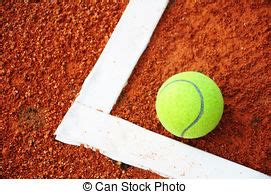tennis_ball: (155, 69, 224, 140)
